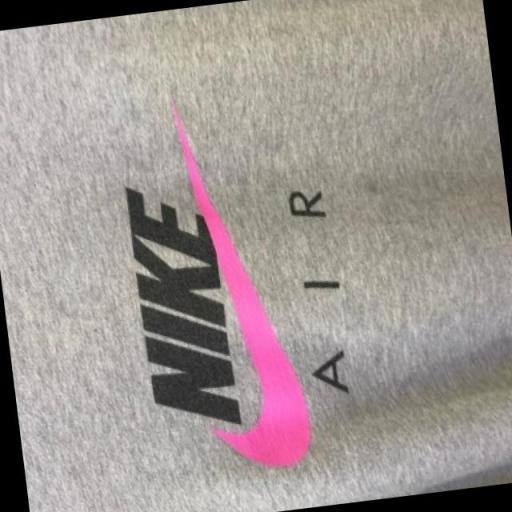Nike: (187, 142, 314, 472), (119, 176, 242, 438)
